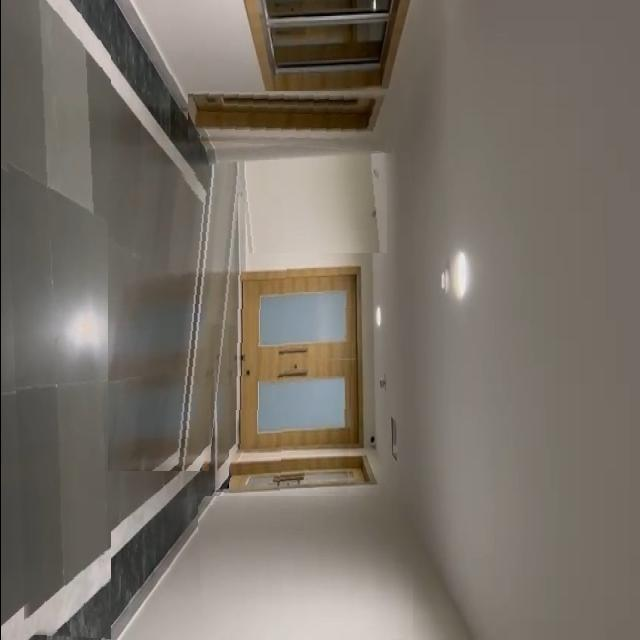door: (228, 257, 354, 494), (187, 91, 397, 153)
floor: (0, 0, 110, 640), (107, 171, 241, 471)
wall: (196, 496, 412, 640), (241, 166, 386, 253), (164, 6, 252, 91)
